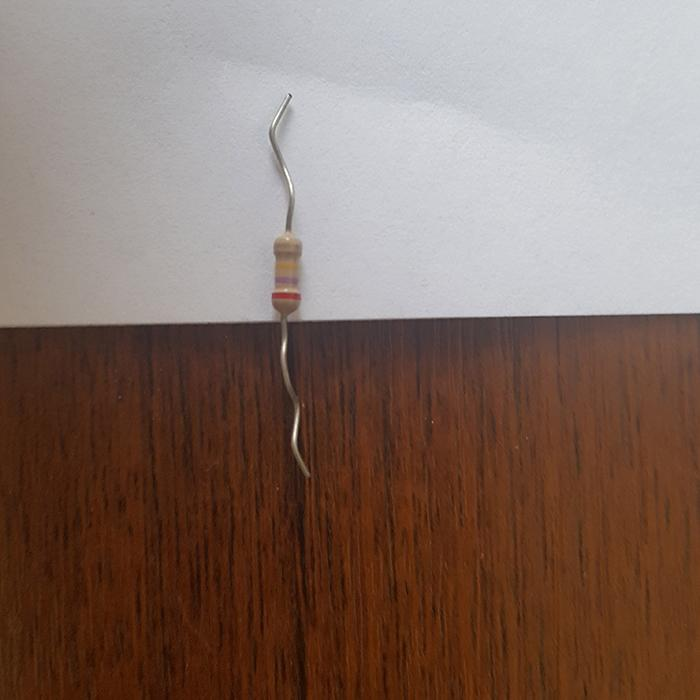resistor: (271, 232, 302, 316)
